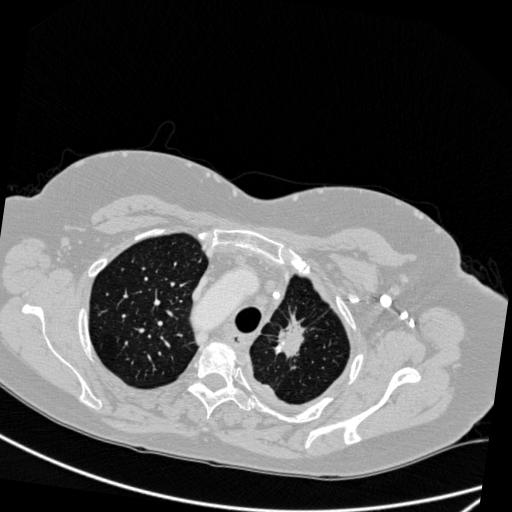nodule: (274, 324, 309, 359)
